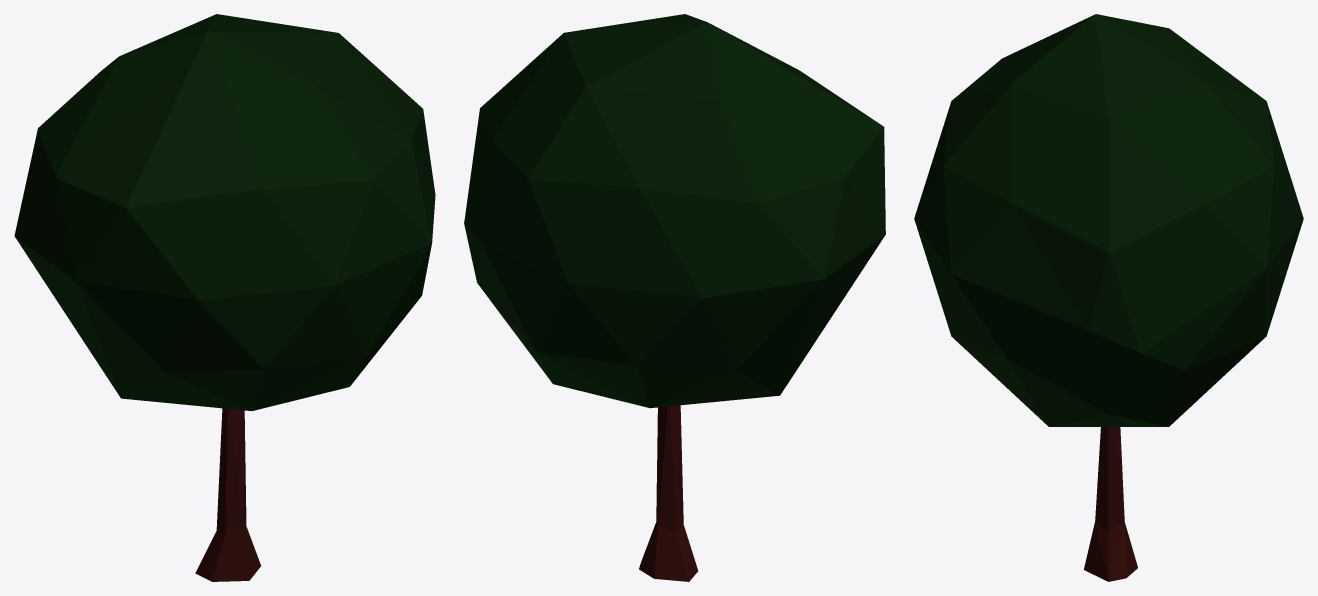
3 renders of one model, left to right at view 1: azimuth 30°, elevation 25°; view 2: azimuth 150°, elevation 25°; view 3: azimuth 270°, elevation 25°, orthographic. The views are drawn at different scales.
Visible parts, largest first — view 1: skp71C1 (×2); view 2: skp71C1 (×2); view 3: skp71C1 (×2).
Part boxes in pixels (x1,y1,x2,y2): skp71C1 (×2): (14, 14, 435, 581); skp71C1 (×2): (464, 14, 885, 581); skp71C1 (×2): (914, 14, 1303, 581).
Bounding box in the file's own units: 86.37 × 78.74 × 120.
